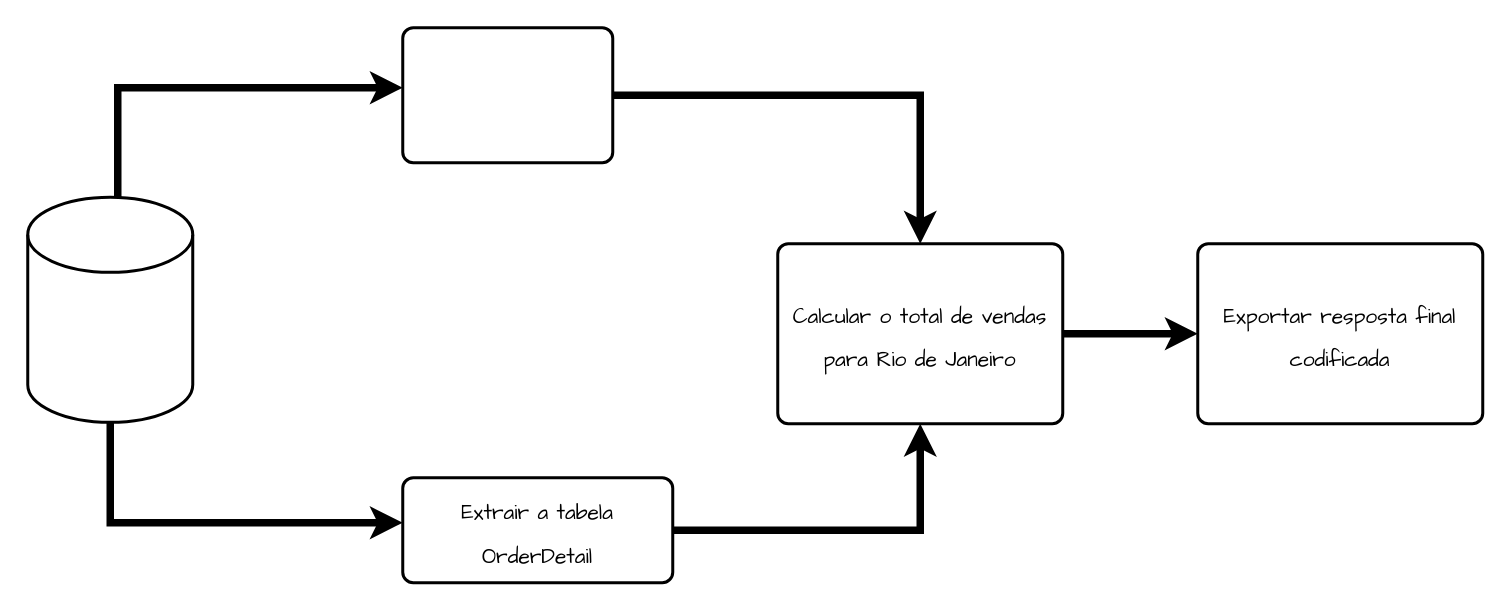
Image size: 1509x609. Some labels were removed from this diagram. The shapes that lost their labels are listed below. From the top down, each one's centre as x and y in pixels, then its label:
point 507,95: Extrair a tabela Order
point 110,309: Northwind.sqlite
